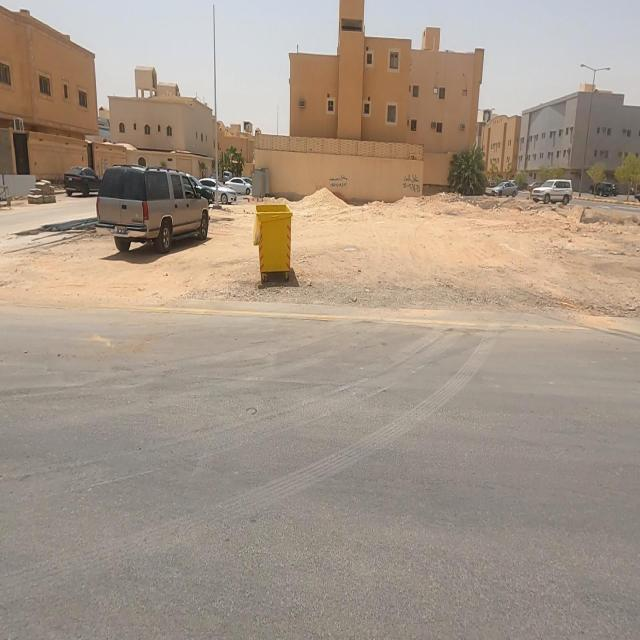Graffiti: (404, 176, 422, 195), (331, 176, 349, 189)
